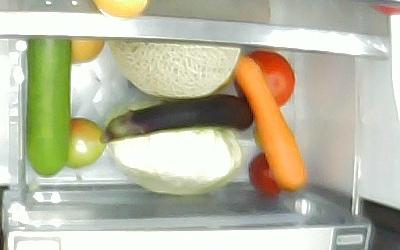cabbage: (106, 103, 242, 196)
carrot: (233, 55, 306, 191)
eggplant: (100, 94, 253, 147)
melon: (111, 38, 241, 98)
prune: (248, 152, 281, 195)
tomato: (237, 50, 296, 106), (61, 118, 105, 168)
zucchini: (26, 39, 71, 176)
